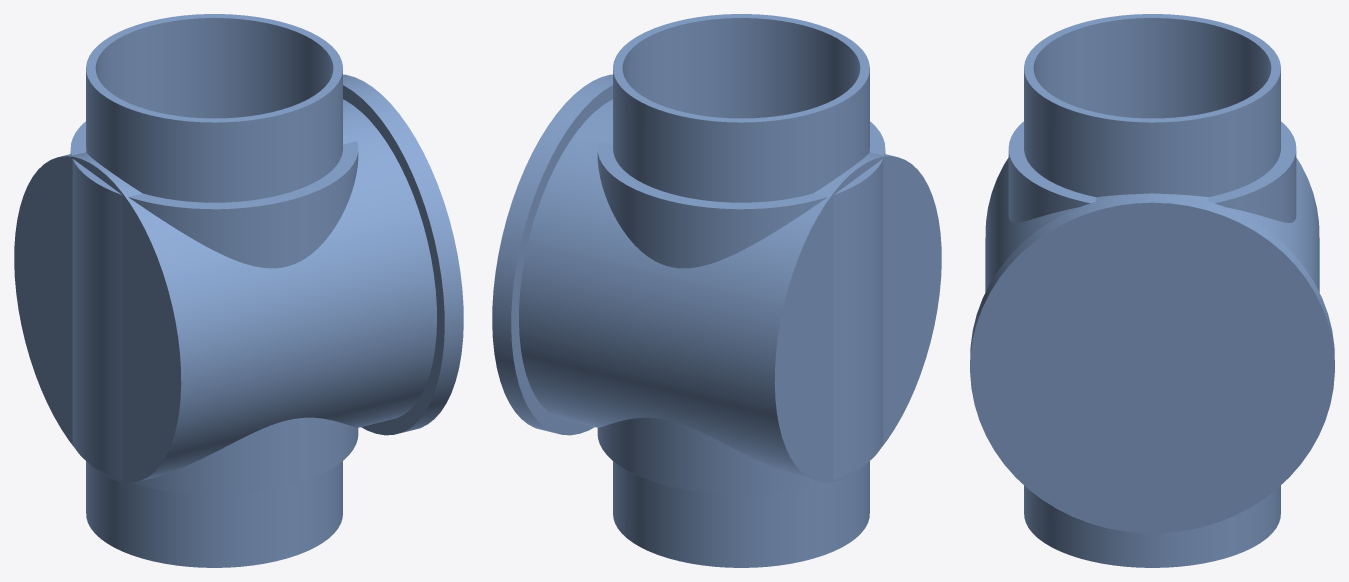
The model's file is step_17.glb.
3 views of the same model, side by side, from view 1: azimuth 30°, elevation 25°; view 2: azimuth 150°, elevation 25°; view 3: azimuth 270°, elevation 25° (orthographic).
Visible parts, largest first — view 1: part__8" gate valve body GV-101; view 2: part__8" gate valve body GV-101; view 3: part__8" gate valve body GV-101.
Boxes of the visible parts, bbox=[...] form: part__8" gate valve body GV-101: bbox=[14, 14, 463, 567]; part__8" gate valve body GV-101: bbox=[492, 14, 941, 567]; part__8" gate valve body GV-101: bbox=[970, 14, 1334, 567].
Bounding box in the file's own units: 278 × 419 × 311.
